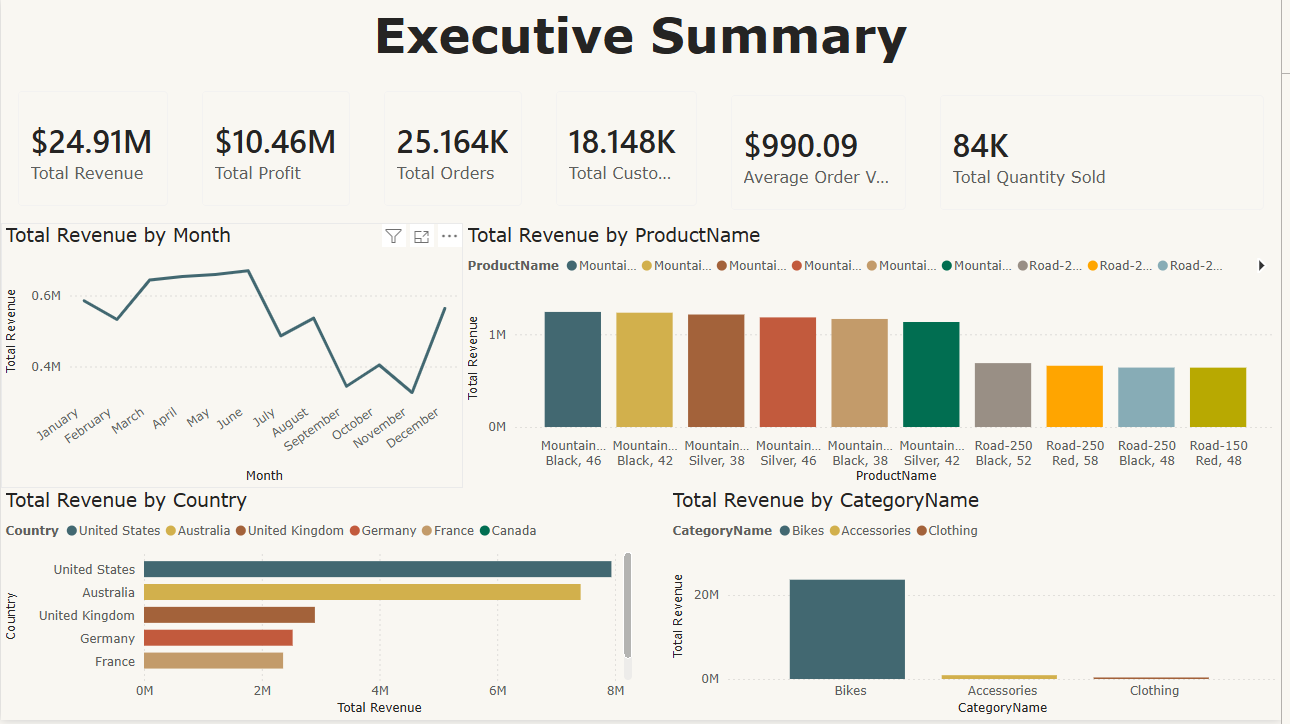

This screenshot's page, from the dashboard's own definition file:
{"tool":"tableau","page":{"name":"Dashboard 1","canvas":[1000,1000],"units":"permille","ordinal":0},"visuals":[{"type":"text","box":[4.7,8.8,990.6,90.7]},{"type":"worksheet","title":"Sheet 3","mark":"Automatic","box":[4.7,99.6,111,163.7]},{"type":"worksheet","title":"Sheet 5","mark":"Automatic","box":[115.7,99.6,111,163.7]},{"type":"worksheet","title":"Sheet 4","mark":"Automatic","box":[226.7,99.6,113.3,163.7]},{"type":"worksheet","title":"Sheet 6","mark":"Automatic","box":[339.9,99.6,113.2,163.7]},{"type":"worksheet","title":"Sheet 2","mark":"Automatic","box":[453.2,99.6,228.5,218.9]},{"type":"worksheet","title":"Sheet 1","mark":"Automatic","box":[681.7,99.6,220,129.5]},{"type":"legend","title":"Sheet 7","param":"[federated.1aws9jr1iyr5lv11f7j1b1no7b1o].[:Measure Names]","box":[901.7,99.6,93.6,50.9]},{"type":"legend","title":"Sheet 9","param":"[federated.1aws9jr1iyr5lv11f7j1b1no7b1o].[sum:Sales:qk]","box":[901.7,150.5,93.6,71.9]},{"type":"legend","title":"Sheet 10","param":"[federated.1aws9jr1iyr5lv11f7j1b1no7b1o].[none:Gender:nk]","box":[901.7,222.3,93.6,95.1]},{"type":"worksheet","title":"Sheet 8","mark":"Automatic","rows":["Sales"],"cols":["CategoryName"],"box":[681.7,229.1,220,316.3]},{"type":"worksheet","title":"Sheet 7","mark":"Automatic","rows":["Sales"],"cols":["OrderDate"],"box":[4.7,263.2,448.5,309.2]},{"type":"legend","title":"Sheet 10","param":"[federated.1aws9jr1iyr5lv11f7j1b1no7b1o].[sum:Sales:qk]","box":[901.7,317.5,93.6,50.9]},{"type":"worksheet","title":"Sheet 11","mark":"Automatic","rows":["Sales"],"cols":["Year"],"box":[453.2,318.4,228.5,672.7]},{"type":"legend","title":"Sheet 11","param":"[federated.1aws9jr1iyr5lv11f7j1b1no7b1o].[none:Year:nk]","box":[901.7,368.4,93.6,95.1]},{"type":"legend","title":"Sheet 8","param":"[federated.1aws9jr1iyr5lv11f7j1b1no7b1o].[none:CategoryName:nk]","box":[901.7,463.5,93.6,95.1]},{"type":"worksheet","title":"Sheet 10","mark":"Pie","box":[681.7,545.4,220,445.8]},{"type":"worksheet","title":"Sheet 9","mark":"Automatic","box":[4.7,572.5,448.5,418.7]}]}

Visuals, with their boxes on the dashboard's canvas, which has no fixed pixel size, in thousandths of its width and height (x1, y1, x2, y2). These are canvas units, not pixel positions in the 1290x724 screenshot, which may show the page scaled, cropped or inside an application window:
text: (x1=5, y1=9, x2=995, y2=100)
"Sheet 3" worksheet: (x1=5, y1=100, x2=116, y2=263)
"Sheet 5" worksheet: (x1=116, y1=100, x2=227, y2=263)
"Sheet 4" worksheet: (x1=227, y1=100, x2=340, y2=263)
"Sheet 6" worksheet: (x1=340, y1=100, x2=453, y2=263)
"Sheet 2" worksheet: (x1=453, y1=100, x2=682, y2=318)
"Sheet 1" worksheet: (x1=682, y1=100, x2=902, y2=229)
"Sheet 7" legend: (x1=902, y1=100, x2=995, y2=150)
"Sheet 9" legend: (x1=902, y1=150, x2=995, y2=222)
"Sheet 10" legend: (x1=902, y1=222, x2=995, y2=317)
"Sheet 8" worksheet: (x1=682, y1=229, x2=902, y2=545)
"Sheet 7" worksheet: (x1=5, y1=263, x2=453, y2=572)
"Sheet 10" legend: (x1=902, y1=318, x2=995, y2=368)
"Sheet 11" worksheet: (x1=453, y1=318, x2=682, y2=991)
"Sheet 11" legend: (x1=902, y1=368, x2=995, y2=464)
"Sheet 8" legend: (x1=902, y1=464, x2=995, y2=559)
"Sheet 10" worksheet (Pie marks): (x1=682, y1=545, x2=902, y2=991)
"Sheet 9" worksheet: (x1=5, y1=572, x2=453, y2=991)
